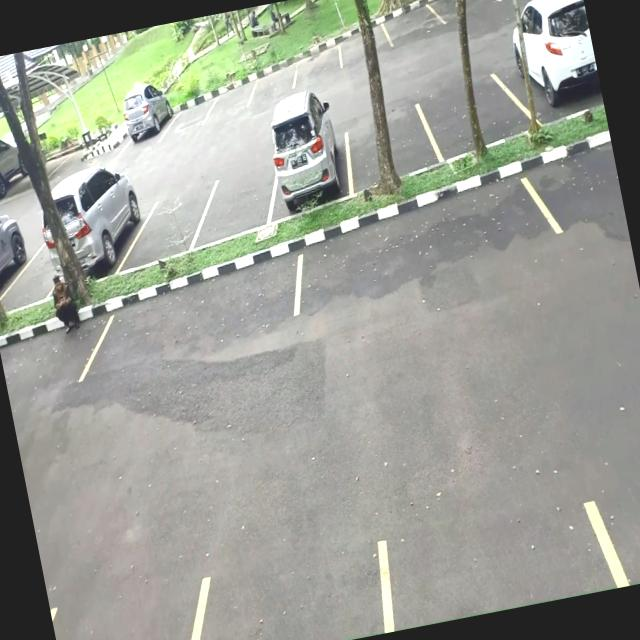car: (497, 0, 599, 126), (260, 108, 356, 218), (64, 175, 148, 280), (118, 88, 174, 149)
free: (298, 170, 557, 316), (381, 501, 627, 630), (82, 255, 301, 385), (193, 545, 389, 640), (420, 64, 530, 164), (51, 577, 208, 640), (338, 100, 437, 192), (194, 163, 284, 243), (127, 184, 213, 264), (0, 244, 58, 314), (381, 0, 443, 50), (335, 19, 392, 68), (289, 38, 346, 86), (247, 58, 300, 101), (206, 79, 257, 123), (166, 92, 214, 136), (432, 0, 494, 29)
